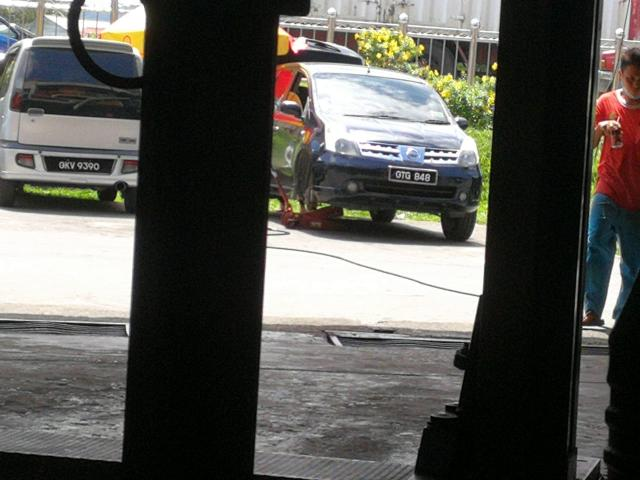License_Plate: (46, 156, 115, 175), (391, 167, 440, 187)
car: (264, 36, 482, 244), (2, 32, 153, 212)
